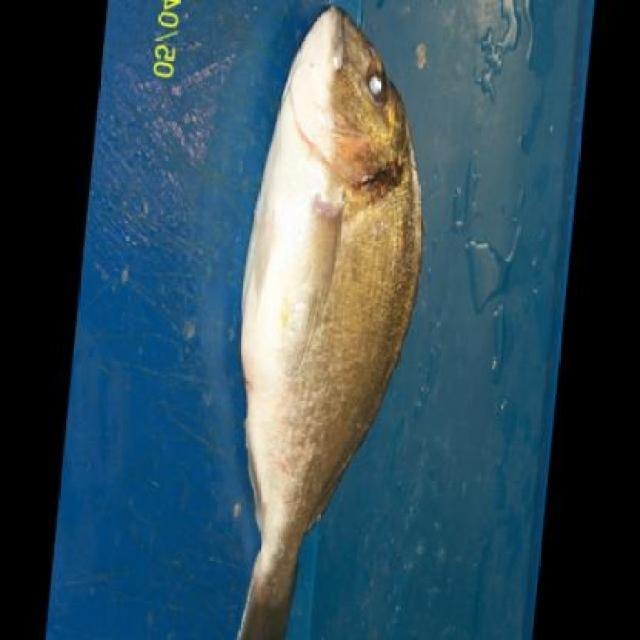Healthy Fish: (226, 5, 428, 640)
